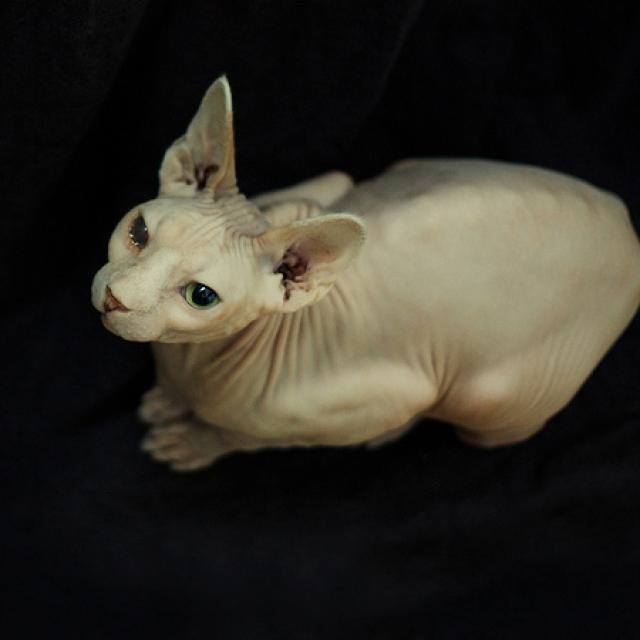Sphynx: (81, 68, 640, 480)
